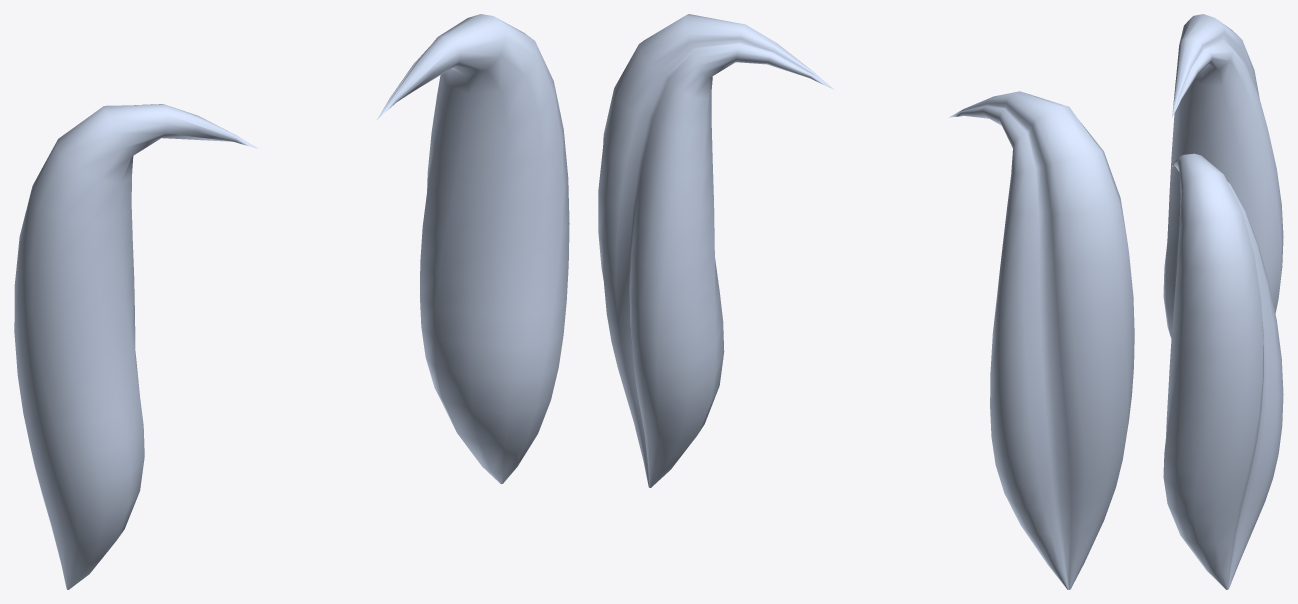
File: 11_back_twintale_high.fbx
3 renders of one model, left to right at view 1: azimuth 30°, elevation 25°; view 2: azimuth 150°, elevation 25°; view 3: azimuth 270°, elevation 25°, orthographic. The views are drawn at different scales.
Parts seen in each view (by area): view 1: 11_back_twintale_high; view 2: 11_back_twintale_high; view 3: 11_back_twintale_high.
Boxes of the visible parts, x1,y1,x2,y2 form: 11_back_twintale_high: (14, 14, 569, 589); 11_back_twintale_high: (598, 14, 1134, 589); 11_back_twintale_high: (1163, 14, 1283, 589).
Size of the model in its own units: 146 by 125 by 33.53.
